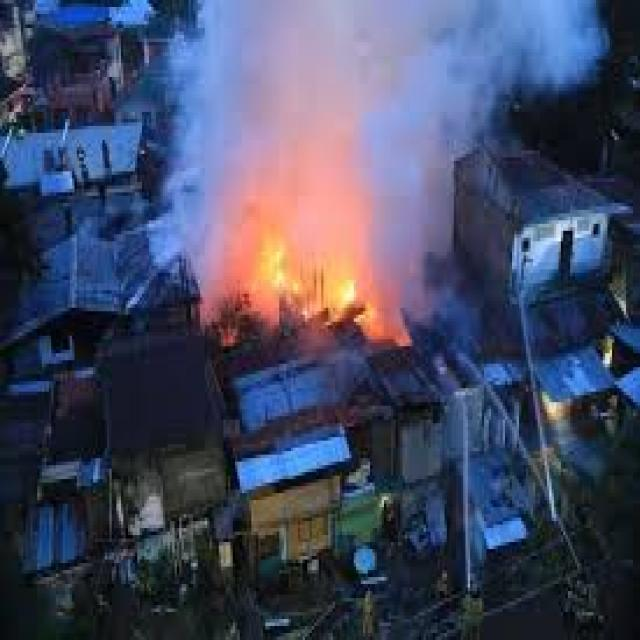Fire: (252, 244, 397, 356)
Smoke: (201, 10, 612, 191)
